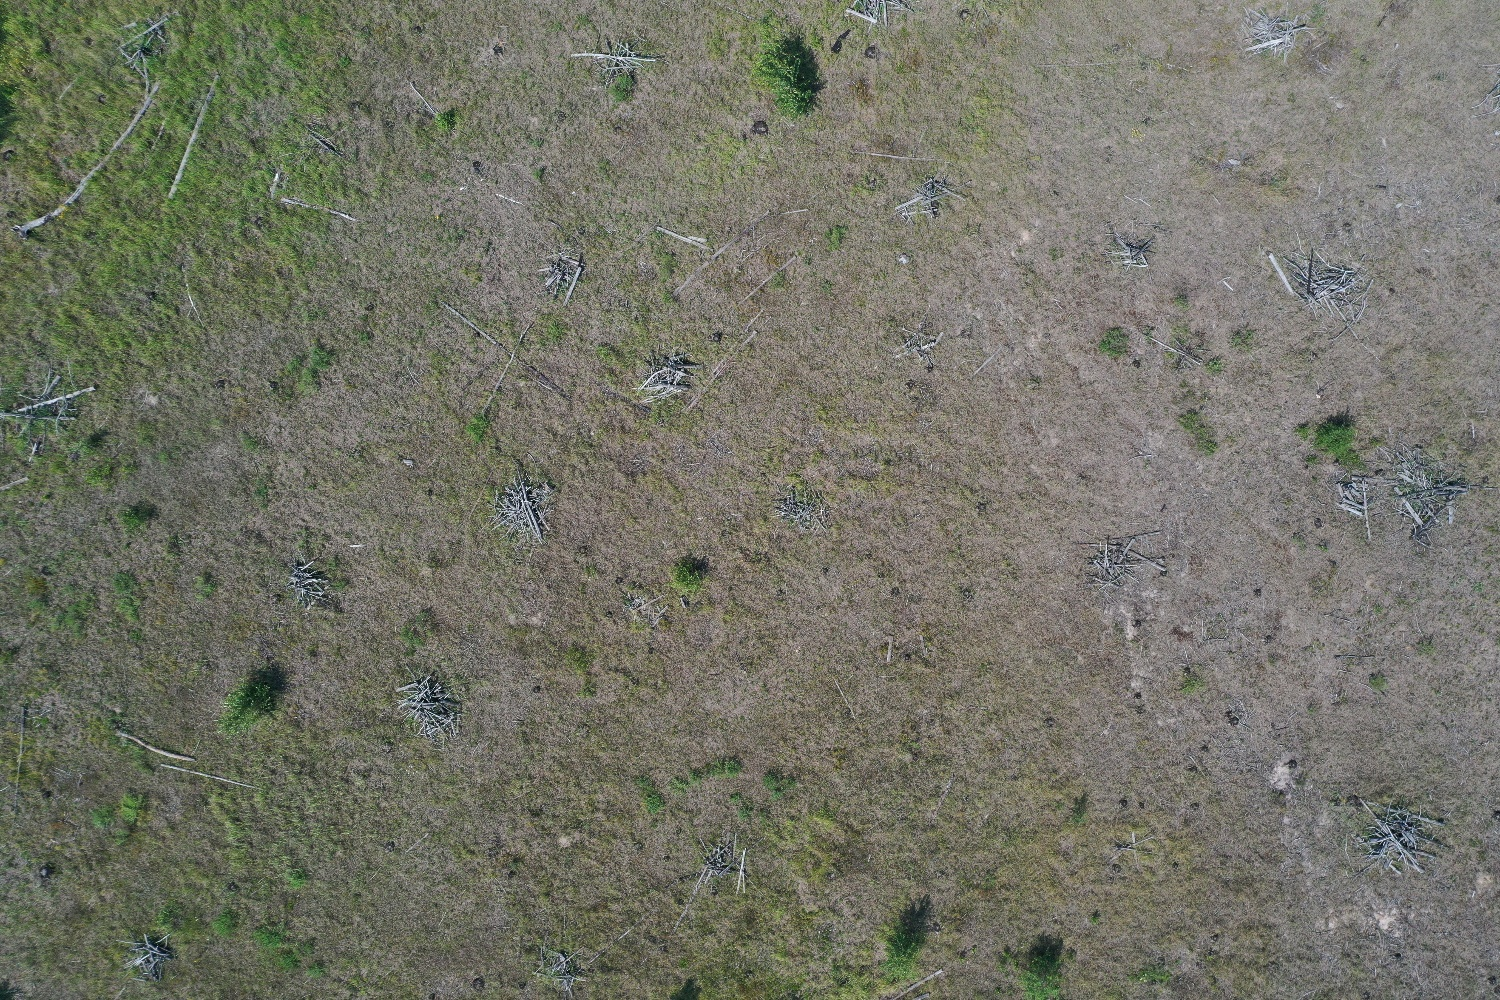branches: (1387, 448, 1471, 547), (1357, 798, 1448, 874), (492, 455, 559, 545), (1281, 248, 1358, 315), (395, 664, 463, 739), (1243, 2, 1316, 62), (571, 32, 657, 81), (633, 349, 704, 405), (896, 177, 972, 220), (115, 933, 177, 983), (1088, 538, 1145, 592), (773, 485, 831, 531), (537, 252, 586, 306), (290, 556, 331, 612), (900, 323, 946, 367), (1103, 232, 1156, 266), (698, 836, 740, 875), (1335, 480, 1371, 517)
